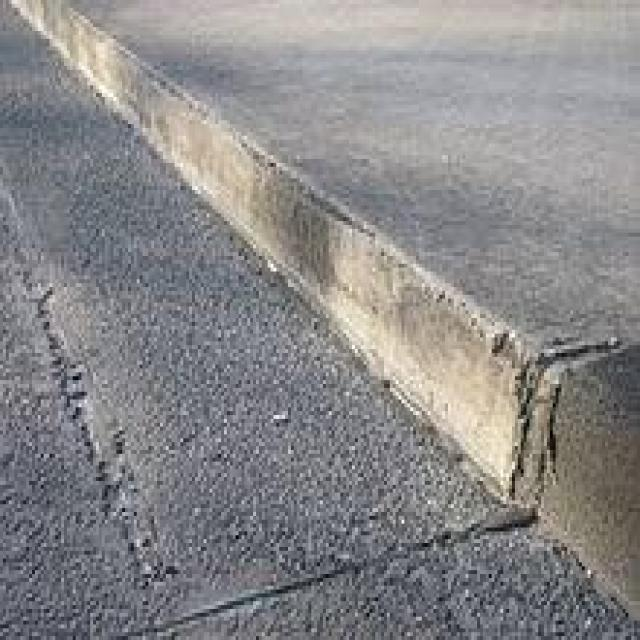curb: (343, 215, 640, 625), (164, 90, 379, 303), (14, 4, 183, 151)
